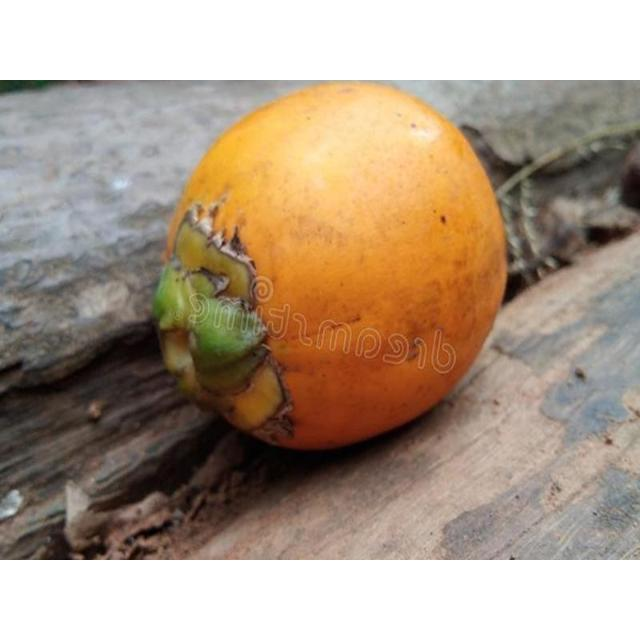good: (152, 84, 509, 454)
